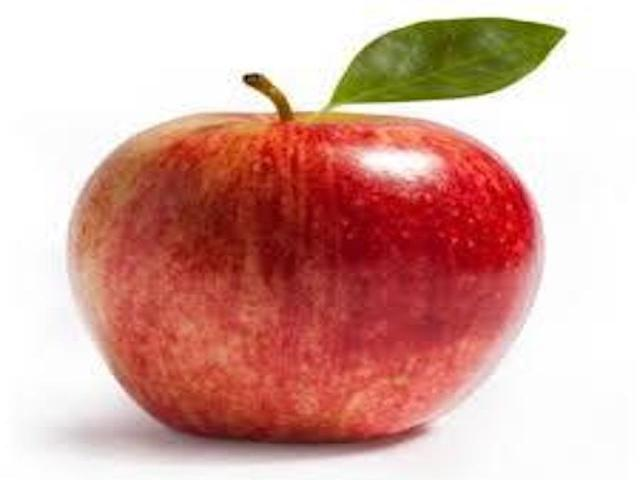apple: (61, 11, 574, 450)
